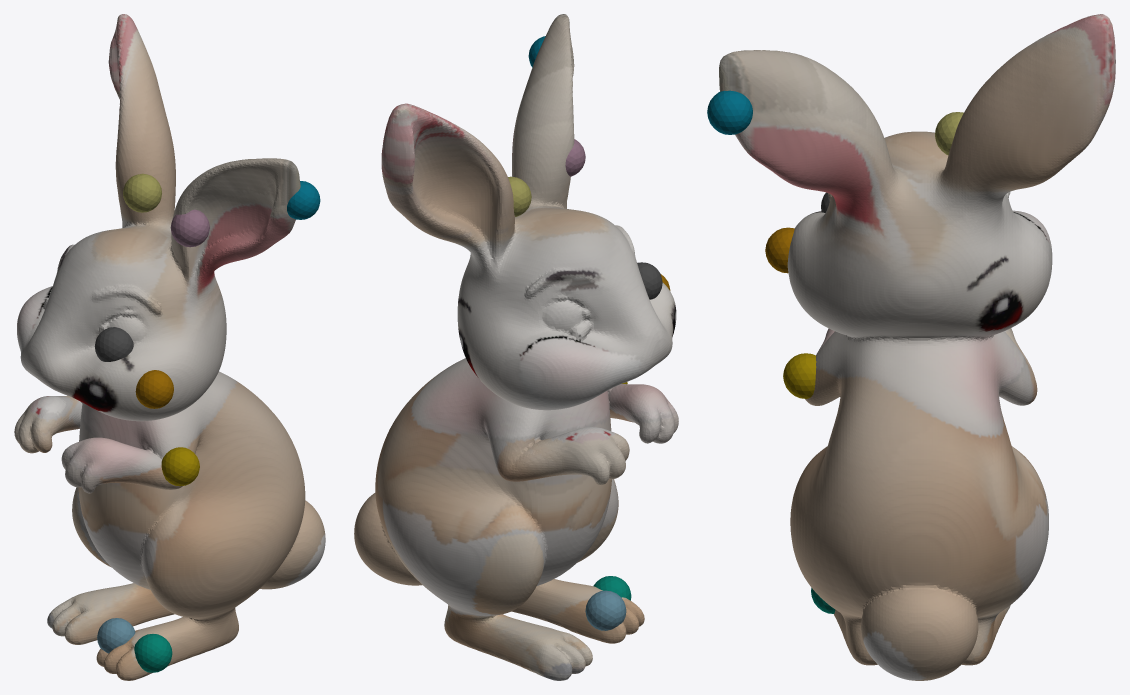
Rendered from triposg_marked_anchors.glb.
3 views of the same model, side by side, from view 1: azimuth 30°, elevation 25°; view 2: azimuth 150°, elevation 25°; view 3: azimuth 270°, elevation 25° (orthographic). The views are drawn at different scales.
Parts seen in each view (by area): view 1: world, anchor_06_rgb_106_100_029, anchor_05_rgb_101_070_000, anchor_02_rgb_000_070_051, anchor_00_rgb_094_041_000, anchor_03_rgb_090_053_073, anchor_07_rgb_022_022_022, anchor_04_rgb_038_079_103, anchor_01_rgb_000_050_078; view 2: world, anchor_04_rgb_038_079_103, anchor_06_rgb_106_100_029, anchor_07_rgb_022_022_022, anchor_02_rgb_000_070_051, anchor_03_rgb_090_053_073; view 3: world, anchor_01_rgb_000_050_078, anchor_05_rgb_101_070_000, anchor_00_rgb_094_041_000, anchor_06_rgb_106_100_029.
Boxes of the visible parts, x1=… form: world: x1=14, y1=14, x2=325, y2=680; anchor_06_rgb_106_100_029: x1=123, y1=173, x2=161, y2=212; anchor_05_rgb_101_070_000: x1=161, y1=447, x2=199, y2=486; anchor_02_rgb_000_070_051: x1=134, y1=634, x2=172, y2=672; anchor_00_rgb_094_041_000: x1=135, y1=370, x2=173, y2=408; anchor_03_rgb_090_053_073: x1=170, y1=209, x2=209, y2=247; anchor_07_rgb_022_022_022: x1=94, y1=327, x2=133, y2=361; anchor_04_rgb_038_079_103: x1=97, y1=618, x2=135, y2=653; anchor_01_rgb_000_050_078: x1=287, y1=181, x2=320, y2=219; world: x1=354, y1=14, x2=678, y2=680; anchor_04_rgb_038_079_103: x1=585, y1=590, x2=626, y2=630; anchor_06_rgb_106_100_029: x1=508, y1=176, x2=531, y2=216; anchor_07_rgb_022_022_022: x1=637, y1=262, x2=662, y2=299; anchor_02_rgb_000_070_051: x1=593, y1=576, x2=631, y2=600; anchor_03_rgb_090_053_073: x1=565, y1=139, x2=585, y2=176; world: x1=719, y1=14, x2=1115, y2=680; anchor_01_rgb_000_050_078: x1=707, y1=90, x2=752, y2=134; anchor_05_rgb_101_070_000: x1=783, y1=353, x2=816, y2=398; anchor_00_rgb_094_041_000: x1=765, y1=227, x2=794, y2=273; anchor_06_rgb_106_100_029: x1=935, y1=112, x2=963, y2=155.
Size of the model in its own units: 1.01 by 1.87 by 1.06.
